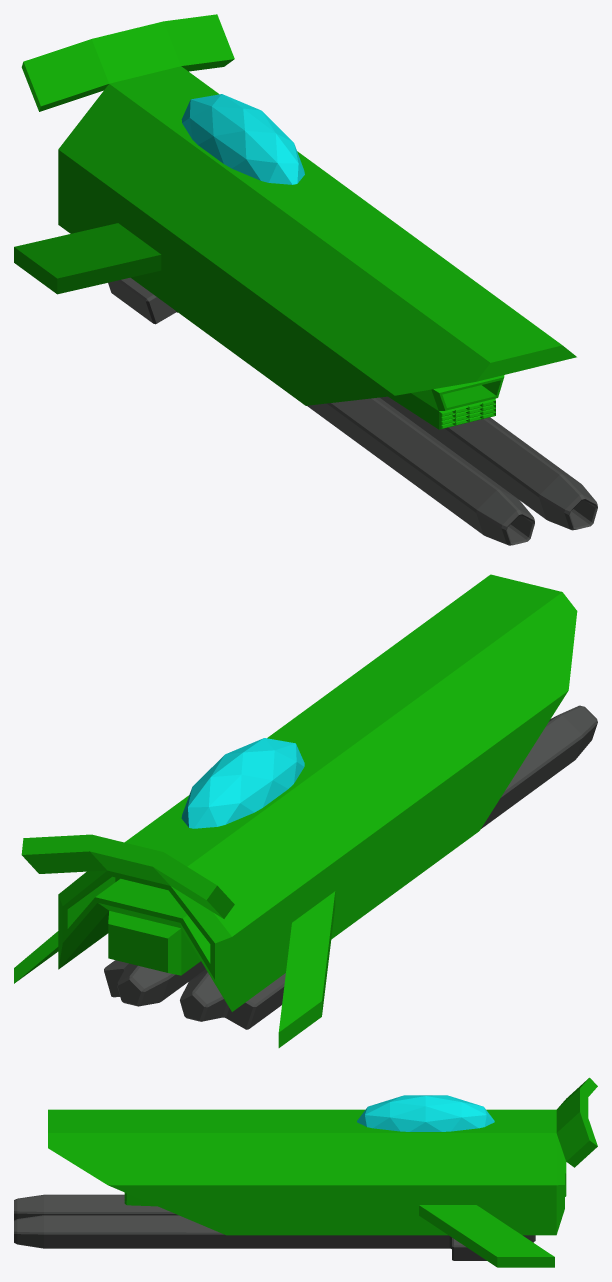
The model's file is ShipA.fbx.
3 renders of one model, top to bottom at view 1: azimuth 30°, elevation 25°; view 2: azimuth 150°, elevation 25°; view 3: azimuth 270°, elevation 25°, orthographic. The views are drawn at different scales.
Visible parts, largest first — view 1: Body, Barrel, Cockpit; view 2: Body, Barrel, Cockpit; view 3: Body, Barrel, Cockpit.
Part boxes in pixels (x1=…): Body: x1=14, y1=14, x2=576, y2=429; Barrel: x1=108, y1=277, x2=597, y2=545; Cockpit: x1=181, y1=94, x2=304, y2=184; Body: x1=14, y1=574, x2=577, y2=1047; Barrel: x1=104, y1=705, x2=597, y2=1029; Cockpit: x1=181, y1=738, x2=304, y2=828; Body: x1=48, y1=1077, x2=597, y2=1267; Barrel: x1=14, y1=1194, x2=535, y2=1260; Cockpit: x1=357, y1=1095, x2=494, y2=1131.
Bounding box in the file's own units: 281 × 218 × 806.
